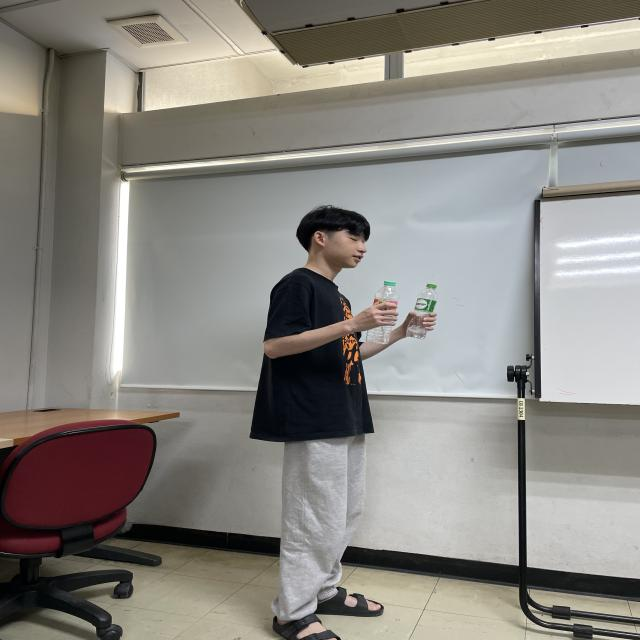bottle: (359, 281, 399, 345), (402, 283, 438, 342)
